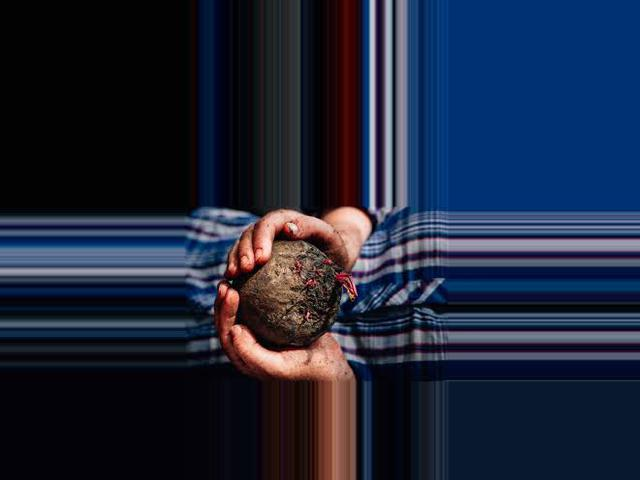beet: (236, 240, 358, 347)
